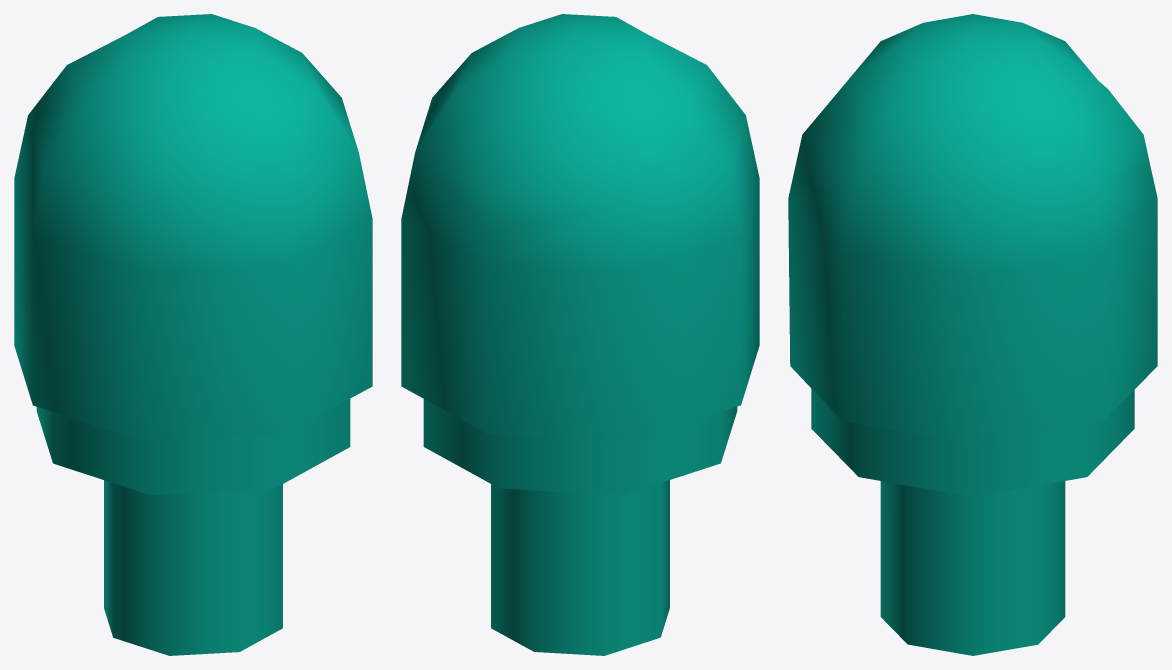
Rendered from PortalGun_AmmoBlue.obj.
3 views of the same model, side by side, from view 1: azimuth 30°, elevation 25°; view 2: azimuth 150°, elevation 25°; view 3: azimuth 270°, elevation 25° (orthographic).
Parts seen in each view (by area): view 1: CHELLPORTALGUN_NXG0001; view 2: CHELLPORTALGUN_NXG0001; view 3: CHELLPORTALGUN_NXG0001.
Part boxes in pixels (<box>): CHELLPORTALGUN_NXG0001: <box>14,14,372,655</box>; CHELLPORTALGUN_NXG0001: <box>401,14,759,655</box>; CHELLPORTALGUN_NXG0001: <box>788,14,1157,655</box>.
Size of the model in its own units: 0.064 by 0.112 by 0.064.
Materials: 1 (1 with a texture image).
